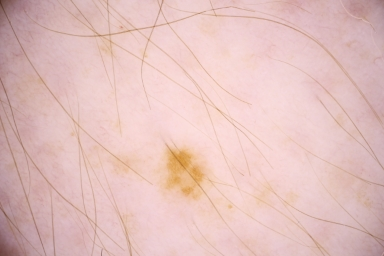nevus: (168, 152, 208, 199)
